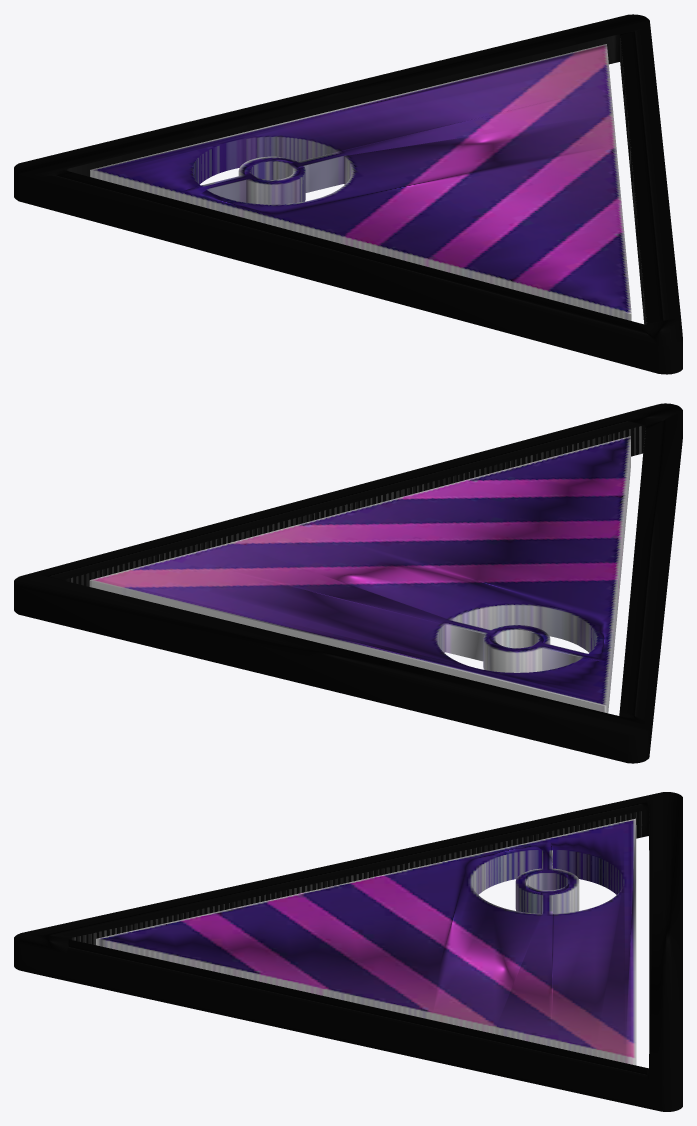
3 views of the same model, one above another, from view 1: azimuth 30°, elevation 25°; view 2: azimuth 150°, elevation 25°; view 3: azimuth 270°, elevation 25° (orthographic). The views are drawn at different scales.
Visible parts, largest first — view 1: path1587; view 2: path1587; view 3: path1587.
Boxes of the visible parts, x1=… form: path1587: x1=14, y1=14, x2=682, y2=374; path1587: x1=14, y1=403, x2=682, y2=763; path1587: x1=14, y1=792, x2=682, y2=1111.
Bounding box in the file's own units: 71.54 × 3 × 68.93.
Materials: 1 (1 with a texture image).
